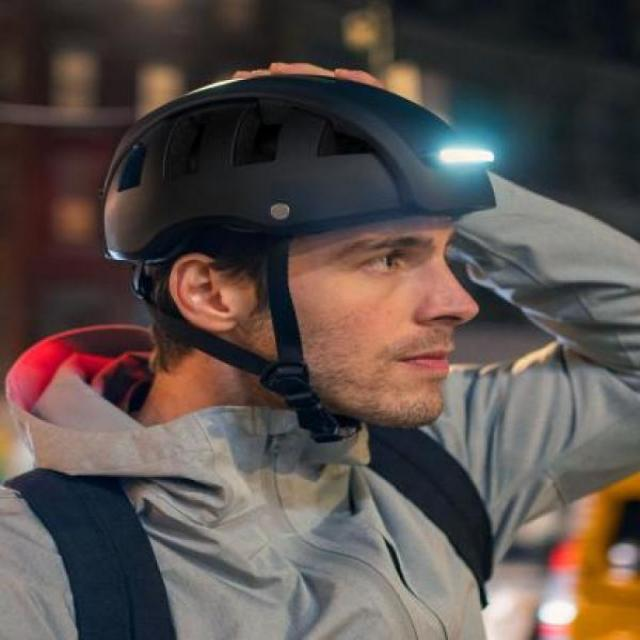Helmet: (100, 78, 470, 420)
